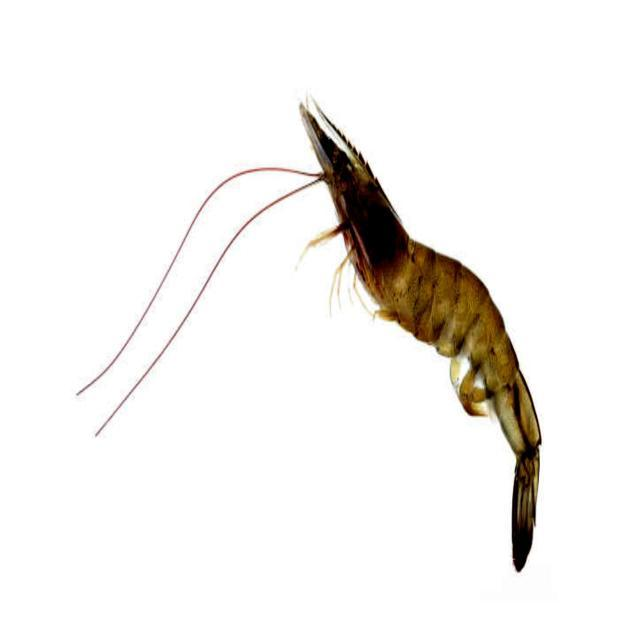shrimp: (302, 105, 540, 569)
